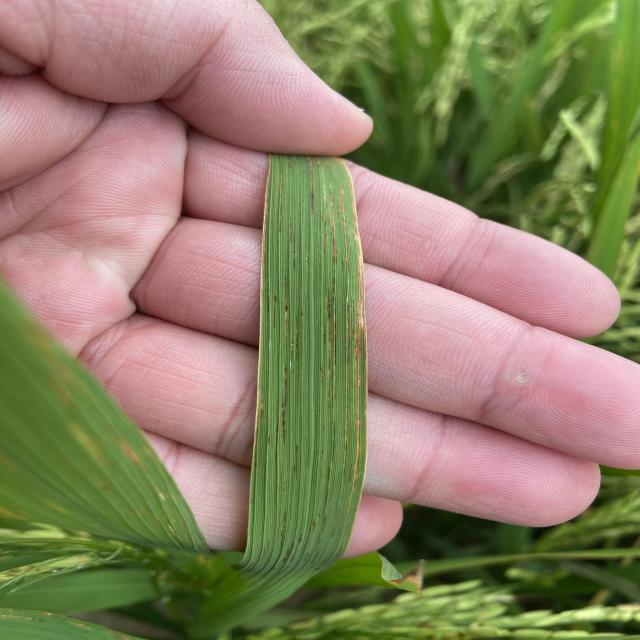Dom soc vi khuan: (344, 313, 349, 436), (281, 365, 288, 444), (306, 156, 315, 214), (283, 278, 290, 348), (330, 193, 337, 260), (327, 295, 331, 408), (339, 184, 348, 229)
